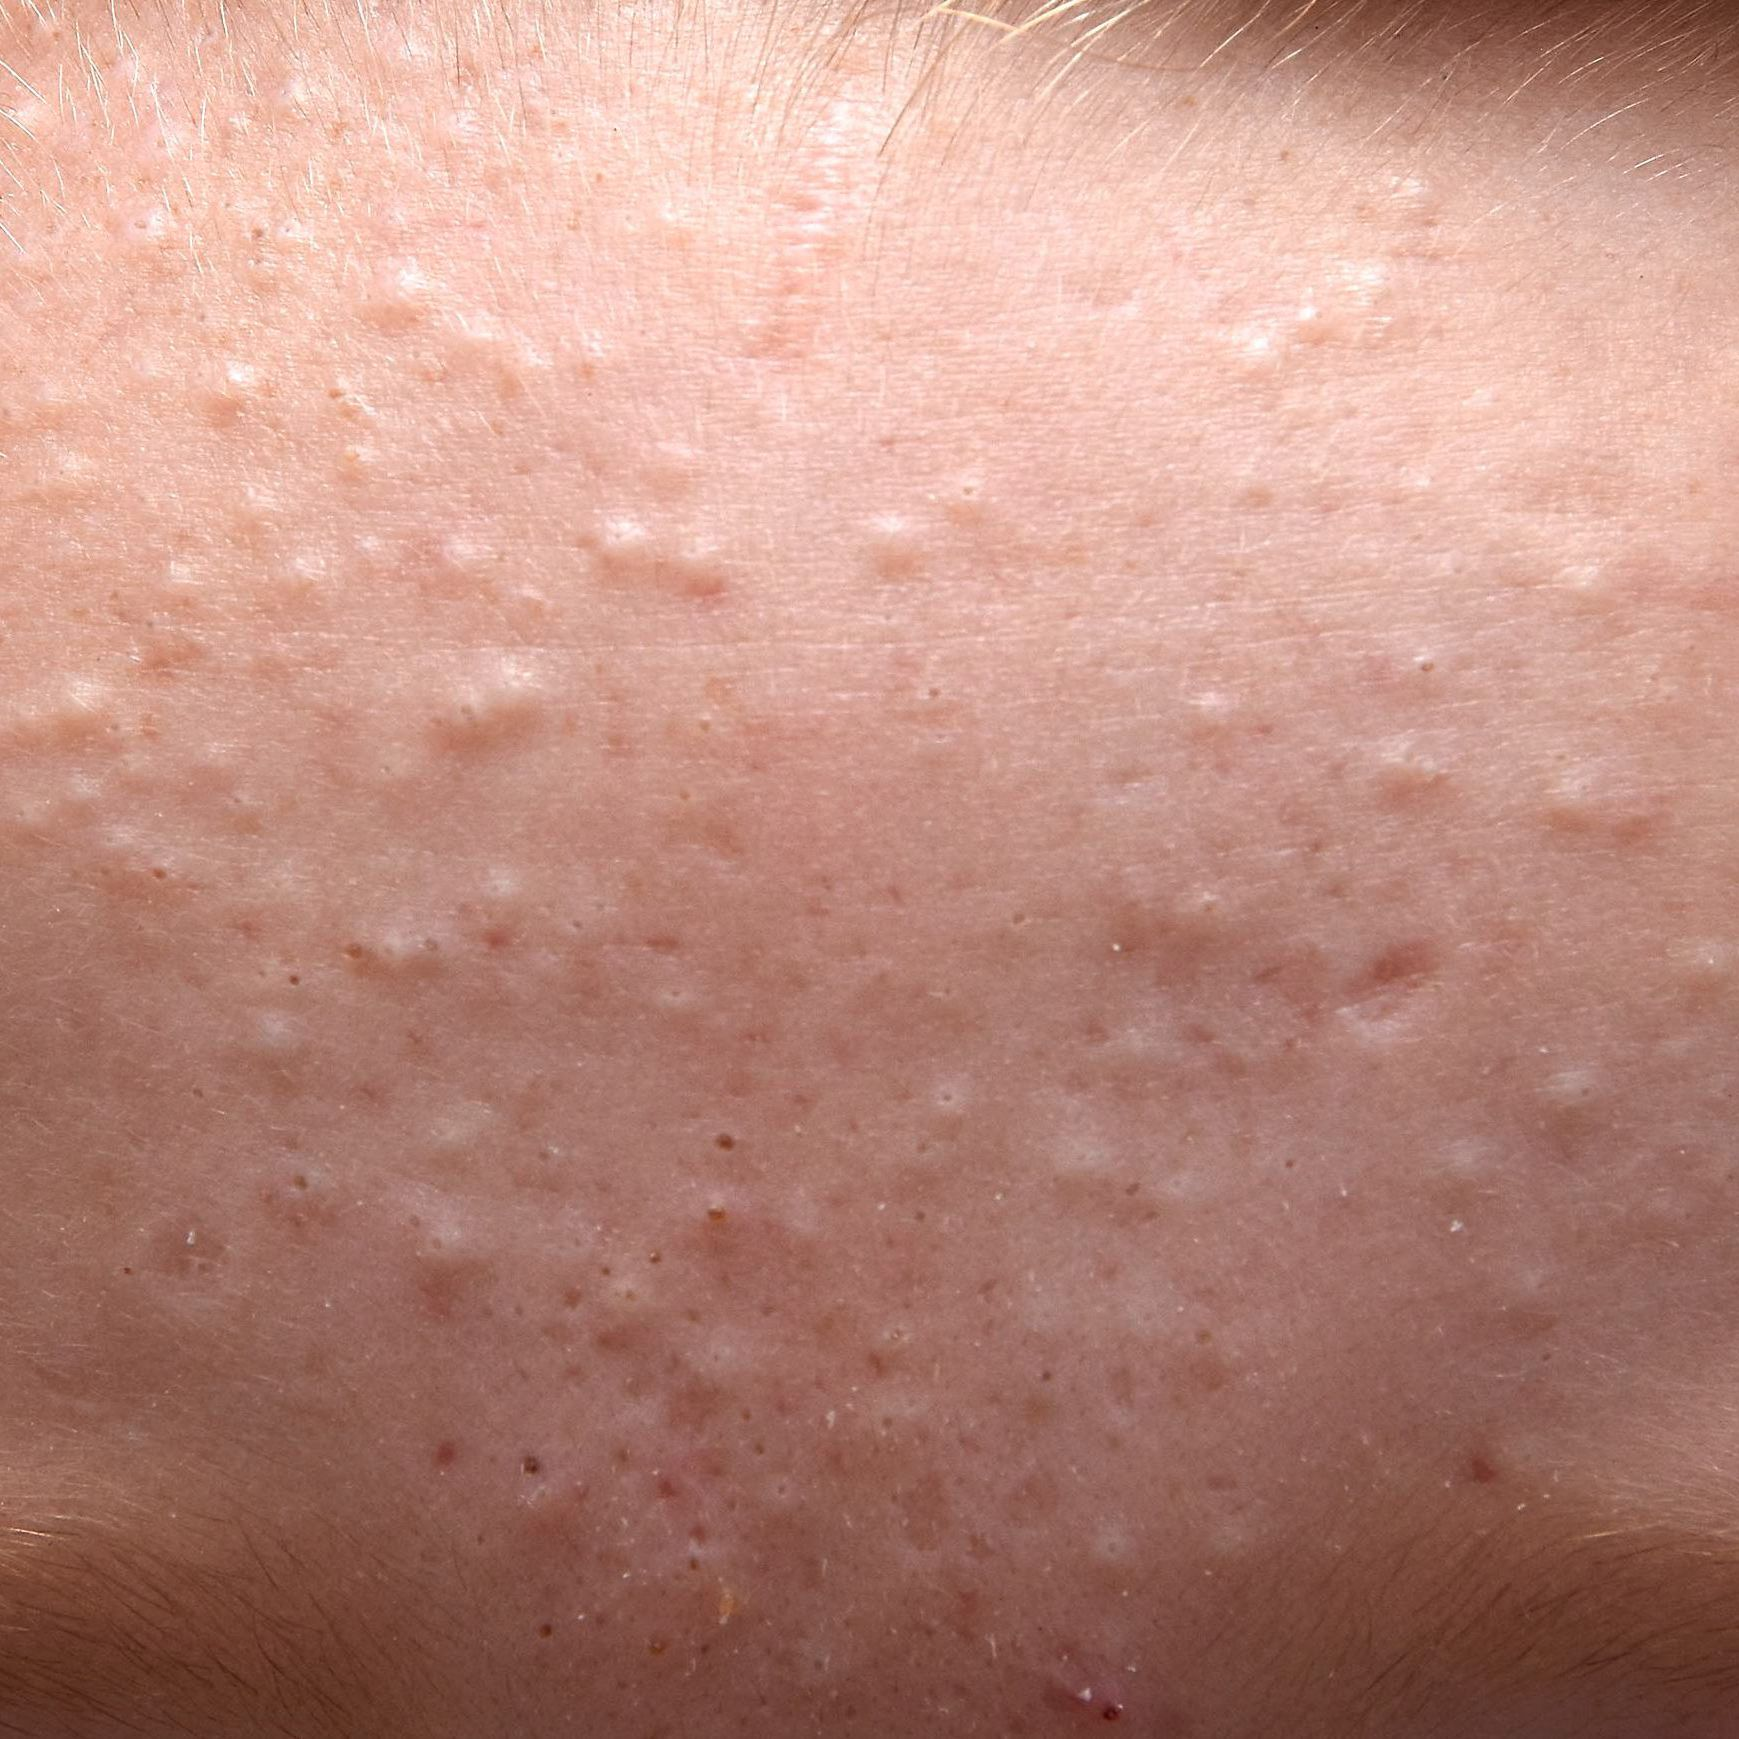jerawat: (428, 655, 559, 761), (1534, 1046, 1610, 1148), (401, 1199, 478, 1292), (1427, 1140, 1503, 1221), (664, 526, 744, 600), (1537, 764, 1608, 842), (1212, 317, 1285, 392), (229, 1011, 314, 1075), (358, 920, 441, 983), (467, 874, 538, 944), (1368, 736, 1440, 803), (583, 510, 650, 580), (361, 261, 435, 323), (41, 669, 115, 731), (857, 506, 924, 569), (589, 1276, 655, 1333), (1178, 685, 1237, 744), (49, 766, 108, 822), (912, 1078, 976, 1129), (194, 361, 255, 412), (1398, 650, 1448, 702), (559, 1462, 600, 1513), (1088, 1534, 1135, 1573), (513, 1441, 548, 1494), (113, 205, 159, 244), (702, 1120, 741, 1161), (524, 1613, 565, 1648), (698, 1196, 736, 1233), (683, 1549, 712, 1583)
